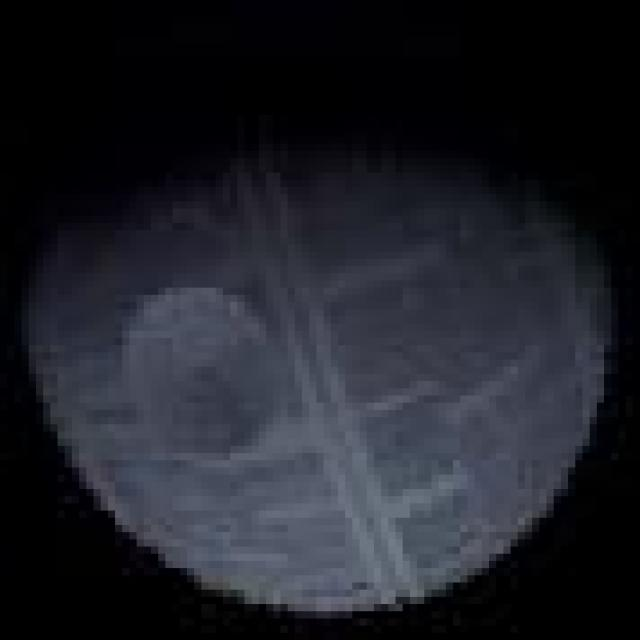Death Star: (14, 122, 618, 618)
